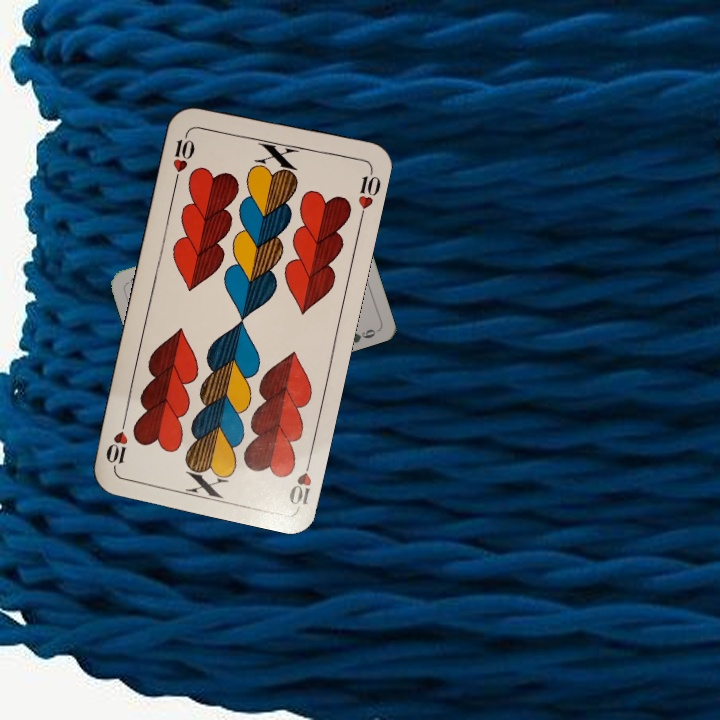H10: (284, 451, 315, 510), (169, 127, 197, 186)
